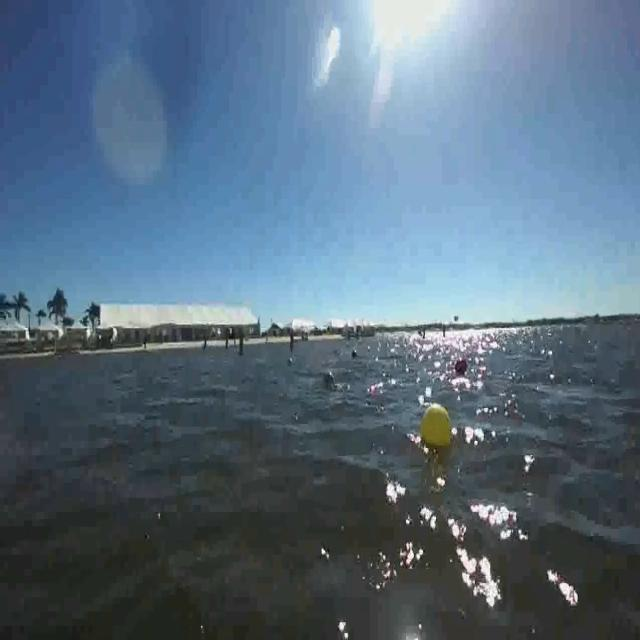yellow-buoy: (419, 402, 452, 448)
